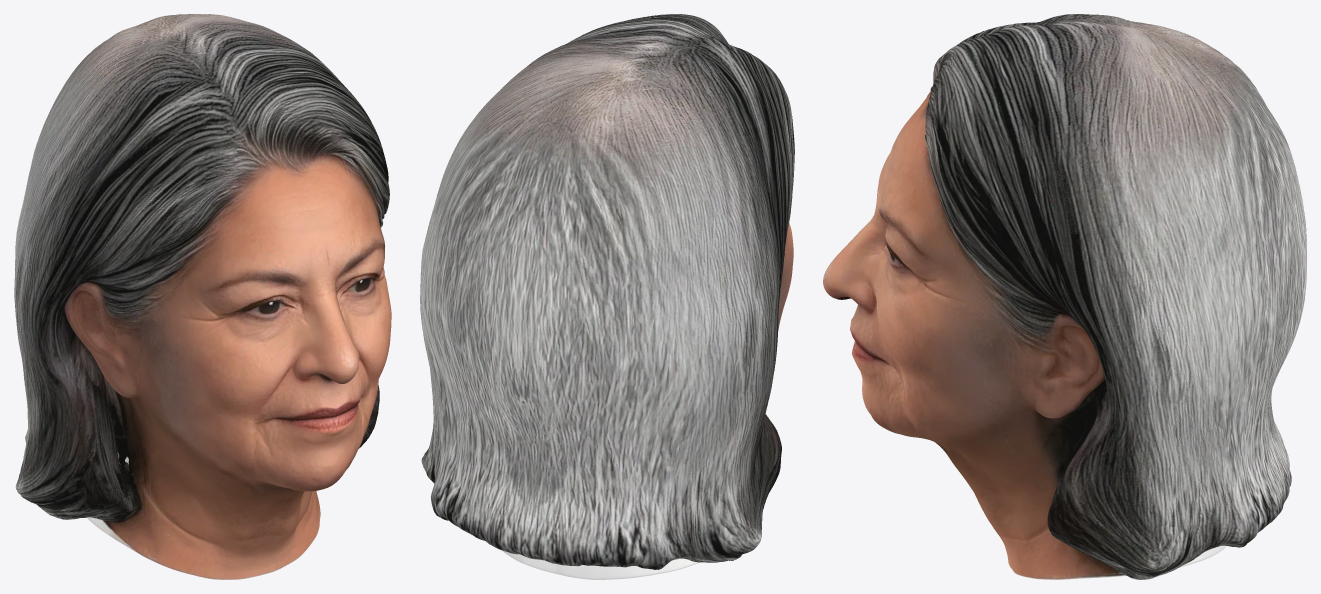
Rendered from Maria.glb.
3 renders of one model, left to right at view 1: azimuth 30°, elevation 25°; view 2: azimuth 150°, elevation 25°; view 3: azimuth 270°, elevation 25°, orthographic. The views are drawn at different scales.
Bounding box in the file's own units: 1.31 × 1.9 × 1.59.
1 material, 1 textured.
